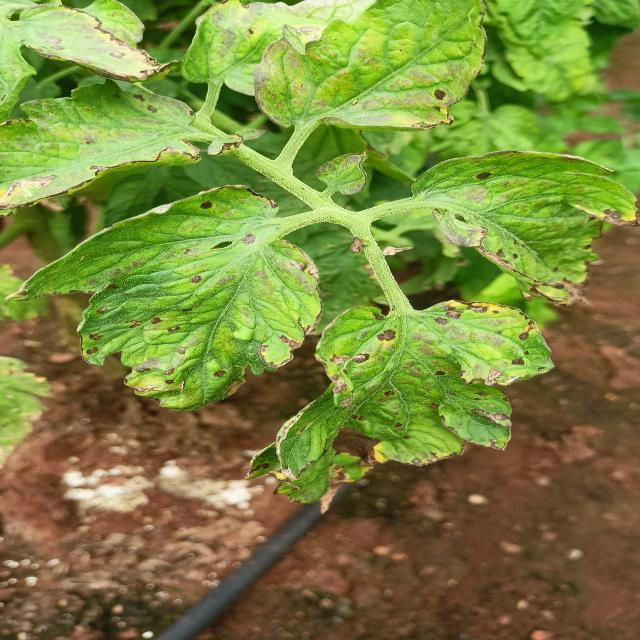Tomato mosaic virus leaf: (74, 183, 322, 413), (308, 299, 564, 471), (422, 145, 640, 309)
